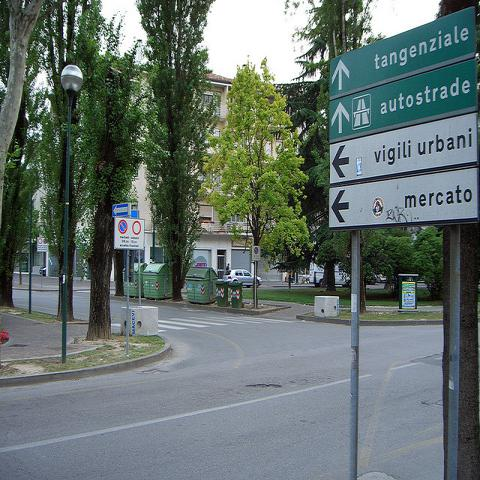car: (222, 268, 262, 286), (313, 271, 324, 287), (38, 266, 46, 277)
